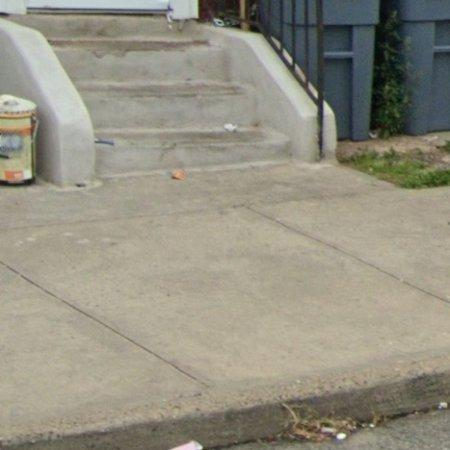stairs: (14, 16, 290, 179)
